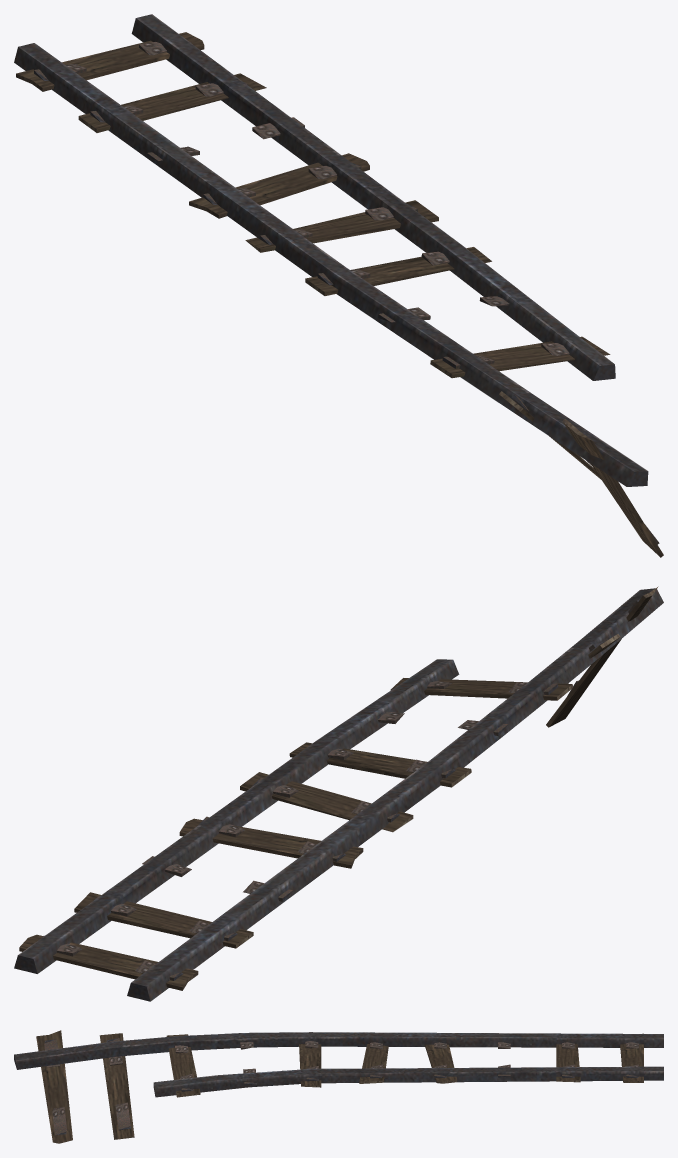
The model's file is mutou02.FBX.
The picture shows the model from 3 angles, top to bottom: view 1: azimuth 30°, elevation 25°; view 2: azimuth 150°, elevation 25°; view 3: azimuth 270°, elevation 25°; orthographic projection. The views are drawn at different scales.
Parts seen in each view (by area): view 1: polySurface1251; view 2: polySurface1251; view 3: polySurface1251.
Boxes of the visible parts, <box> form: polySurface1251: <box>14,14,663,557</box>; polySurface1251: <box>14,586,663,1001</box>; polySurface1251: <box>14,1030,663,1143</box>.
Bounding box in the file's own units: 18.74 × 15.13 × 101.
